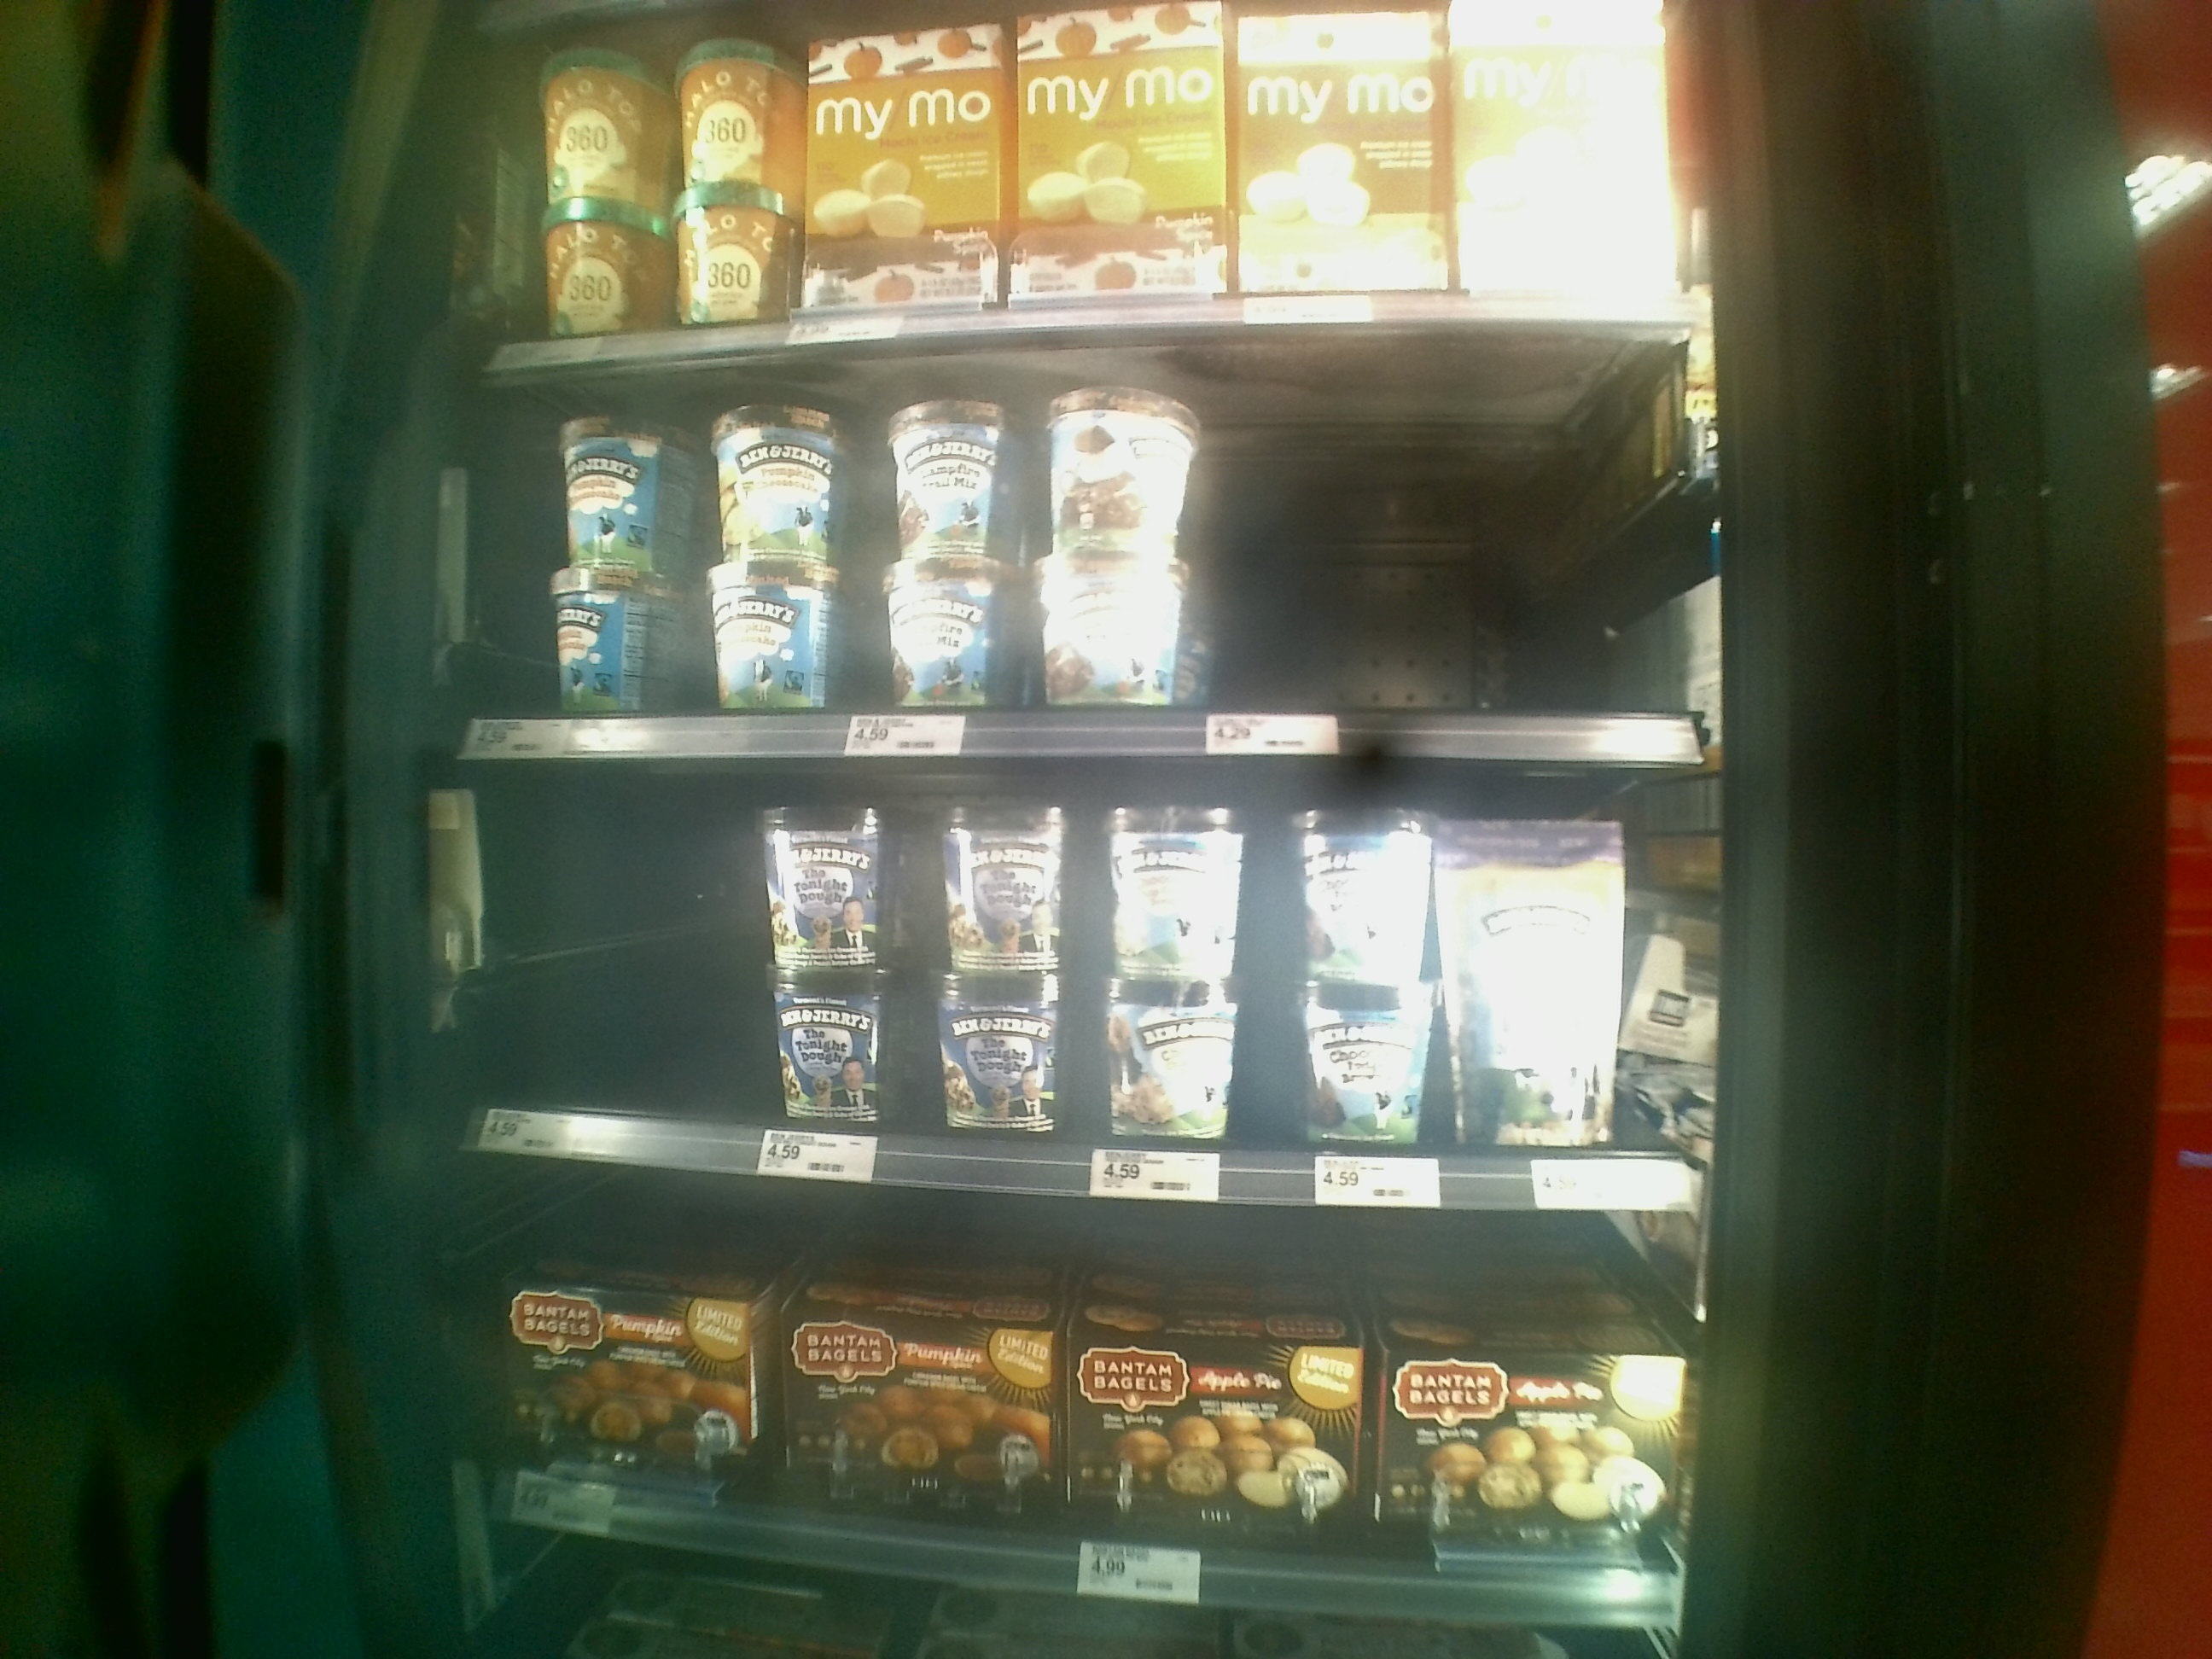shelf: (441, 749, 1724, 1229), (435, 1159, 1707, 1631), (441, 364, 1730, 770)
